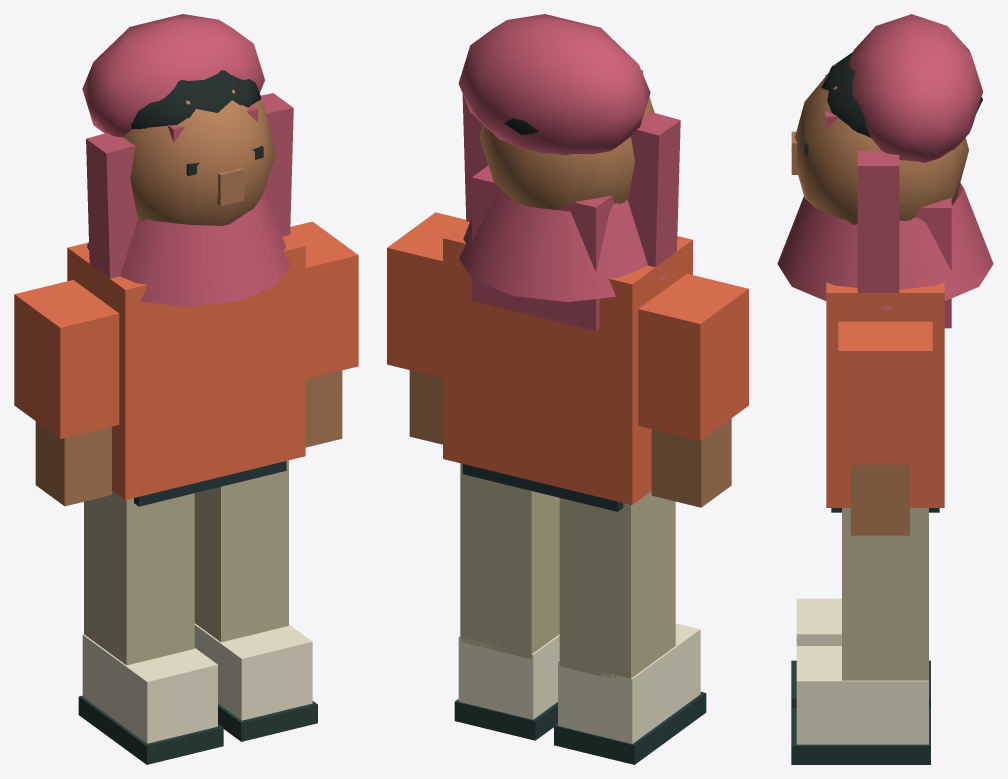
File: male-tudung-instant.glb
The picture shows the model from 3 angles, left to right: view 1: azimuth 30°, elevation 25°; view 2: azimuth 150°, elevation 25°; view 3: azimuth 270°, elevation 25°; orthographic projection. The views are drawn at different scales.
Parts seen in each view (by area): view 1: male-tudung-instant, avatar-tudung, tudung-neck-wrap; view 2: male-tudung-instant, avatar-tudung, tudung-neck-wrap; view 3: male-tudung-instant, avatar-tudung, tudung-neck-wrap.
Boxes of the visible parts, x1,y1,x2,y2 form: male-tudung-instant: (14,70,358,764); avatar-tudung: (82,14,293,278); tudung-neck-wrap: (87,191,290,306); male-tudung-instant: (387,97,748,764); avatar-tudung: (458,14,680,330); tudung-neck-wrap: (459,193,665,301); male-tudung-instant: (791,51,982,764); avatar-tudung: (825,14,982,328); tudung-neck-wrap: (777,183,993,309).
Size of the model in its own units: 1.01 by 2.2 by 0.62.
